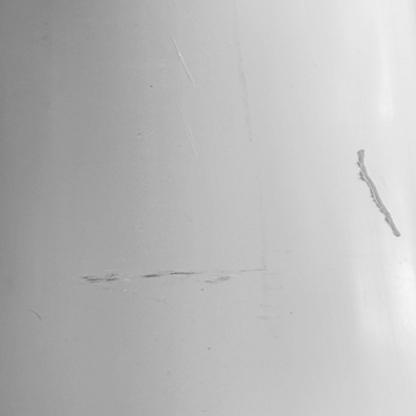sunshang: (354, 145, 403, 240), (78, 268, 235, 284)
